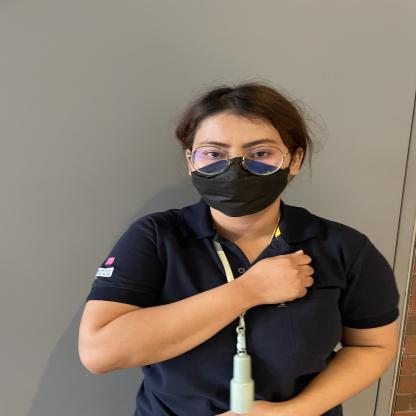Sadness: (183, 245, 350, 316)
